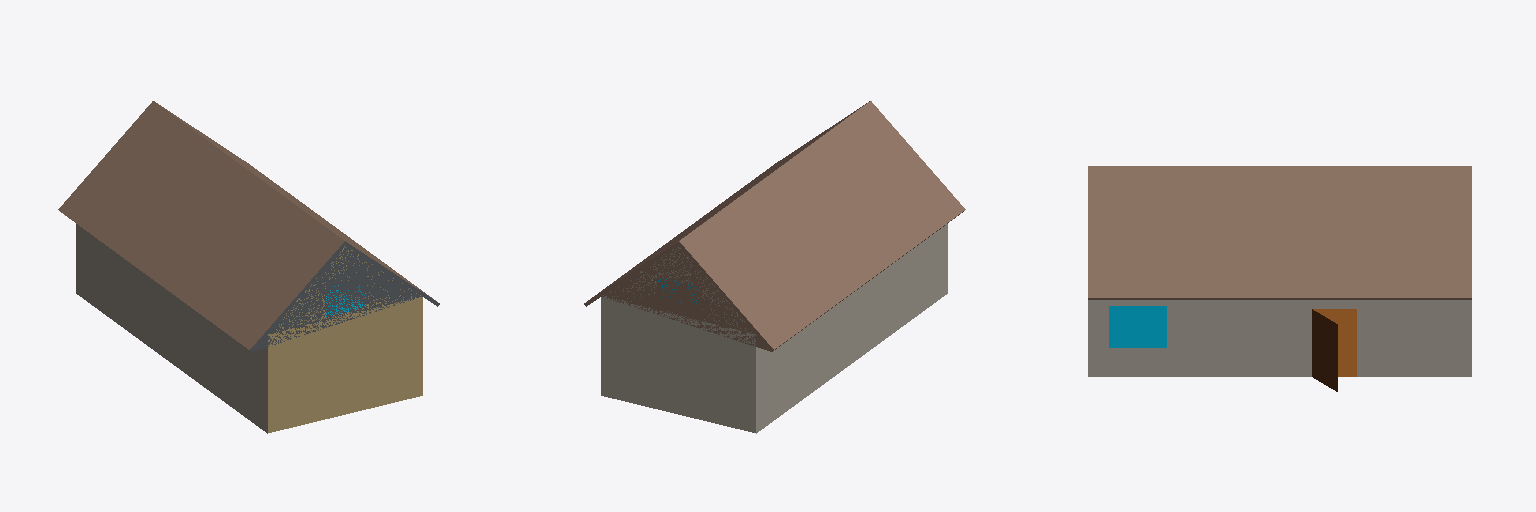
The model's file is dom.obj.
3 renders of one model, left to right at view 1: azimuth 30°, elevation 25°; view 2: azimuth 150°, elevation 25°; view 3: azimuth 270°, elevation 25°, orthographic.
Parts seen in each view (by area): view 1: Mesh1 Model; view 2: Mesh1 Model; view 3: Mesh1 Model.
Boxes of the visible parts, x1=… form: Mesh1 Model: x1=58, y1=101, x2=439, y2=433; Mesh1 Model: x1=584, y1=101, x2=965, y2=433; Mesh1 Model: x1=1088, y1=166, x2=1471, y2=391.
Bounding box in the file's own units: 1.88 × 1.53 × 3.06.